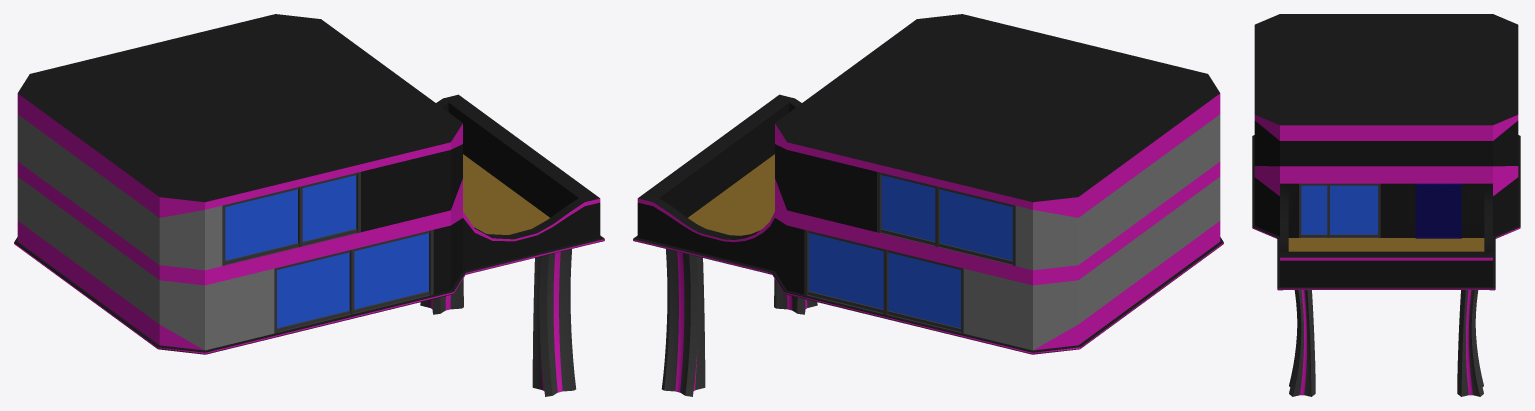
File: SM_Building_Middle01_MK6.fbx
3 views of the same model, side by side, from view 1: azimuth 30°, elevation 25°; view 2: azimuth 150°, elevation 25°; view 3: azimuth 270°, elevation 25° (orthographic). The views are drawn at different scales.
Visible parts, largest first — view 1: SM_Building_Middle01_MK6; view 2: SM_Building_Middle01_MK6; view 3: SM_Building_Middle01_MK6.
Boxes of the visible parts, x1,y1,x2,y2 form: SM_Building_Middle01_MK6: (14,14,604,396); SM_Building_Middle01_MK6: (633,14,1223,396); SM_Building_Middle01_MK6: (1252,14,1520,396).
Bounding box in the file's own units: 1545 × 1000 × 1070.
